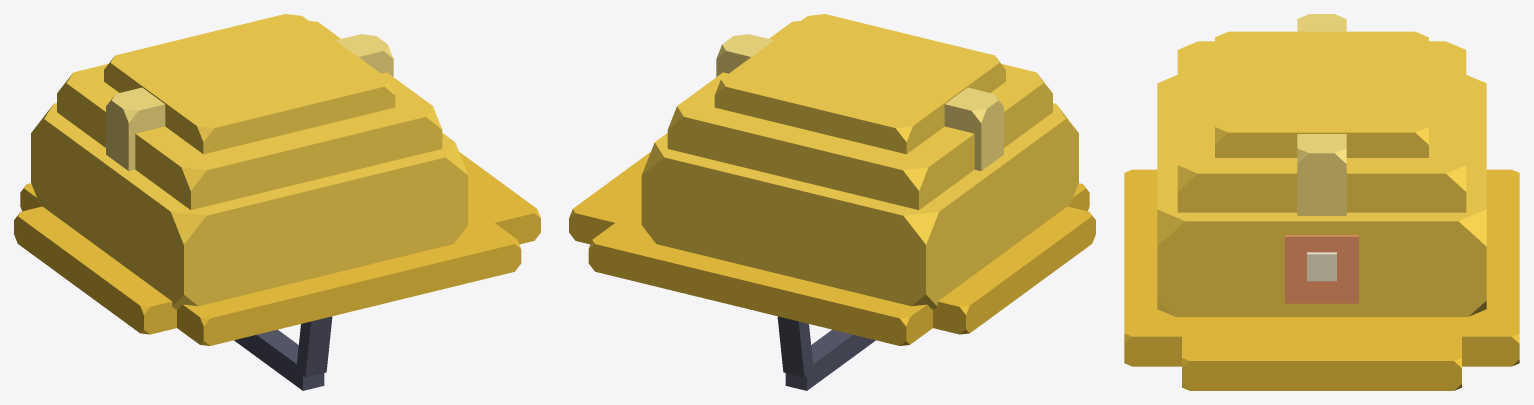
Rendered from hard-hat-google_9AMKar2NlkX-blocky.glb.
3 renders of one model, left to right at view 1: azimuth 30°, elevation 25°; view 2: azimuth 150°, elevation 25°; view 3: azimuth 270°, elevation 25°, orthographic. The views are drawn at different scales.
Parts seen in each view (by area): view 1: Sphere001, Box001; view 2: Sphere001, Box001; view 3: Sphere001.
Part boxes in pixels (x1,y1,x2,y2): Sphere001: (14,14,540,345); Box001: (234,316,332,390); Sphere001: (569,14,1095,345); Box001: (777,316,875,390); Sphere001: (1124,14,1519,390).
Bounding box in the file's own units: 0.3 × 0.2 × 0.24.
Materials: 1 (1 with a texture image).
